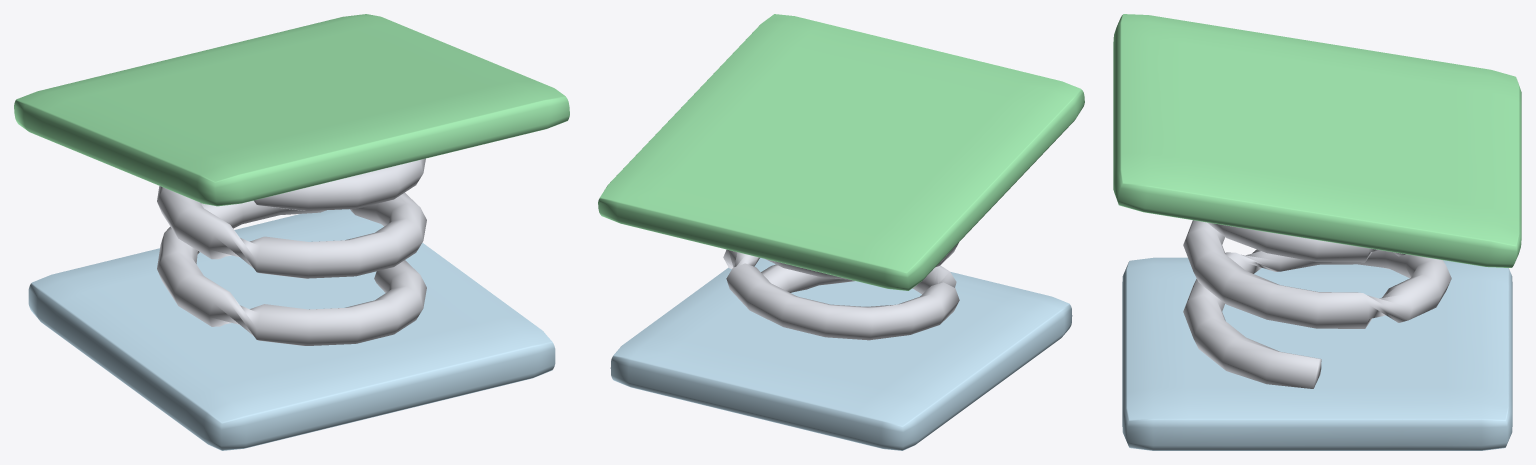
File: DiceDashSpring.glb
3 views of the same model, side by side, from view 1: azimuth 30°, elevation 25°; view 2: azimuth 150°, elevation 25°; view 3: azimuth 270°, elevation 25° (orthographic). The views are drawn at different scales.
Parts seen in each view (by area): view 1: Plate, Base, Coil; view 2: Plate, Base, Coil; view 3: Plate, Base, Coil.
Boxes of the visible parts, x1,y1,x2,y2 form: Plate: (14, 14, 569, 206); Base: (28, 209, 555, 450); Coil: (157, 158, 426, 345); Plate: (598, 14, 1084, 290); Base: (610, 258, 1072, 450); Coil: (723, 243, 959, 340); Plate: (1113, 14, 1521, 267); Base: (1122, 257, 1512, 450); Coil: (1183, 220, 1451, 388).
Size of the model in its own units: 3.6 by 2.69 by 3.55.
